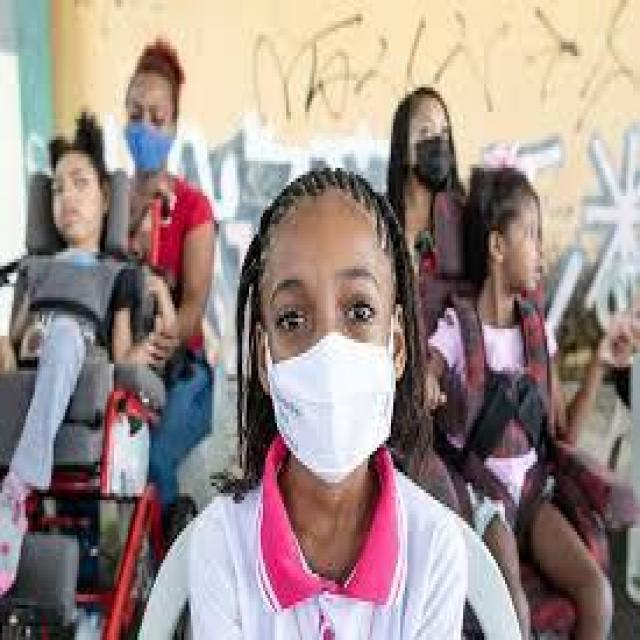person: (219, 133, 428, 636), (451, 136, 603, 636), (107, 35, 230, 493), (11, 115, 140, 546), (379, 59, 468, 290)
